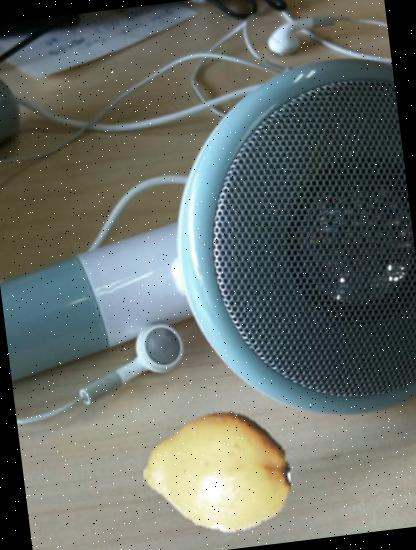Quince: (134, 389, 299, 550)
